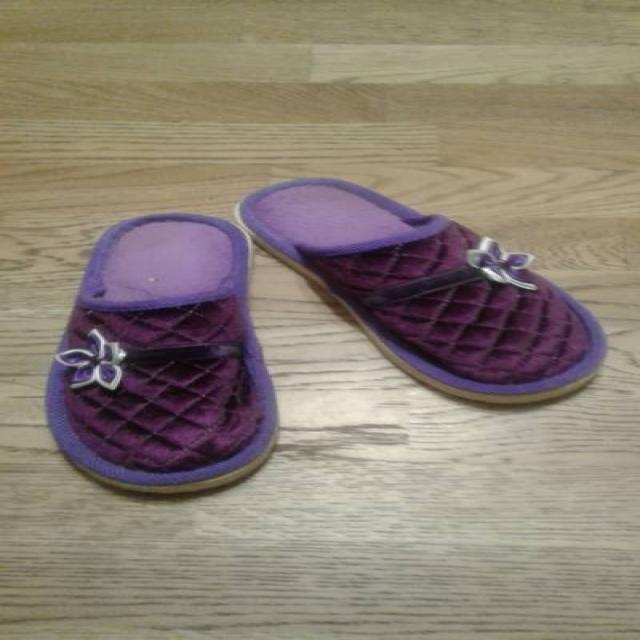Clothes -Biodegradable-: (41, 173, 608, 498)
